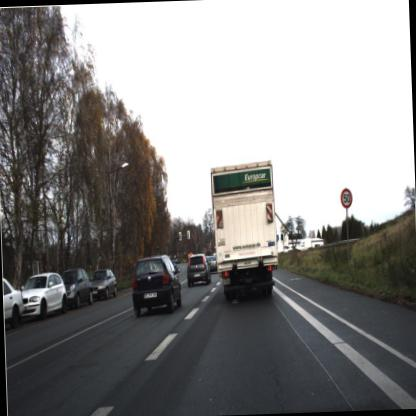prohibitory: (339, 184, 354, 210)
